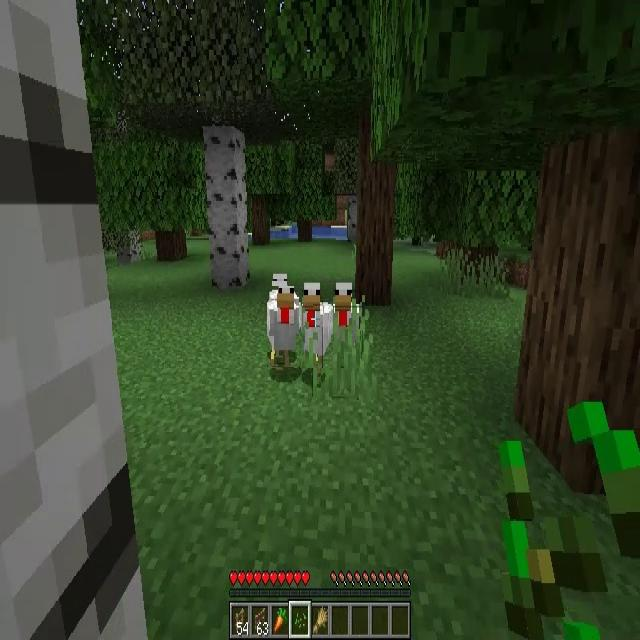duck: (302, 282, 333, 368), (267, 286, 299, 367), (332, 281, 362, 358)
